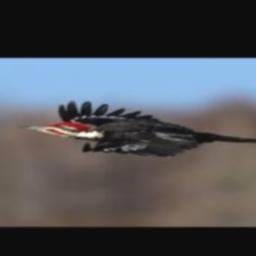Woodpecker: (18, 100, 256, 157)
